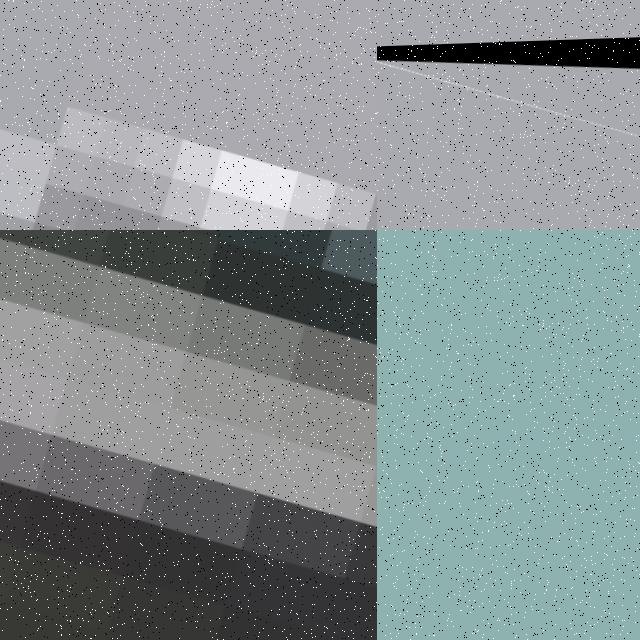0: (0, 0, 377, 230), (377, 31, 640, 230)
drone: (0, 230, 377, 640)
